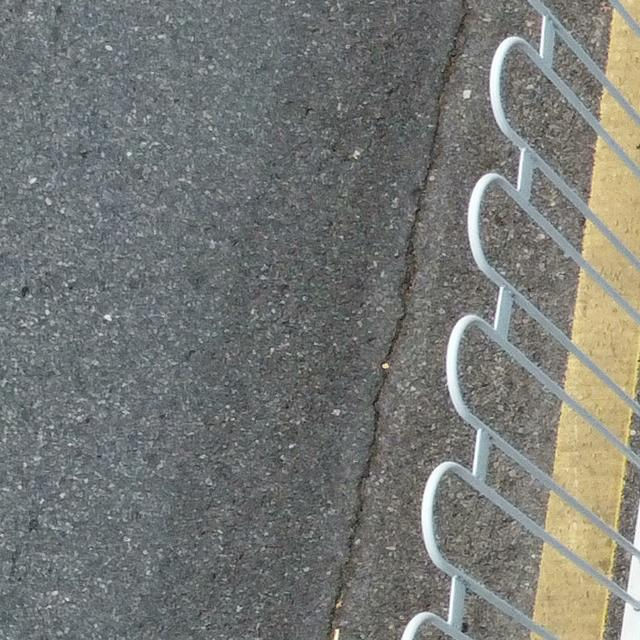LongitudinalCrack: (327, 1, 469, 637)
